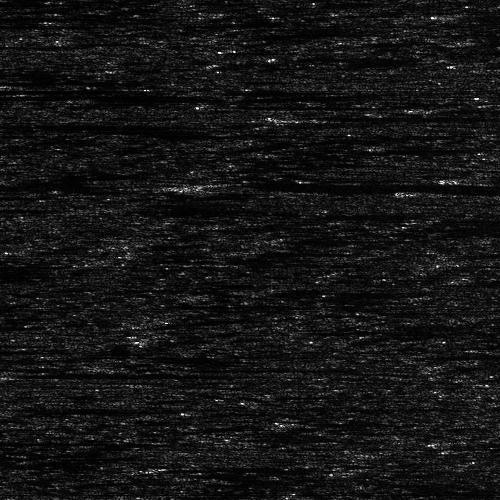object: (199, 107, 418, 128), (174, 98, 237, 109), (0, 405, 73, 412), (413, 176, 486, 181), (369, 188, 442, 193), (412, 105, 475, 110), (0, 89, 19, 104), (0, 371, 35, 378), (434, 11, 465, 16), (0, 119, 20, 126), (71, 97, 112, 100)
shadow: (0, 89, 317, 104), (309, 107, 500, 128), (0, 83, 276, 96), (0, 75, 181, 84), (0, 119, 224, 126), (0, 436, 195, 443), (206, 98, 328, 109), (0, 371, 166, 378), (217, 184, 500, 187), (21, 405, 140, 412), (0, 202, 71, 213), (92, 97, 329, 100), (0, 0, 86, 6), (406, 188, 500, 193), (443, 105, 500, 110), (449, 176, 500, 181), (449, 11, 500, 16), (438, 218, 500, 221)
